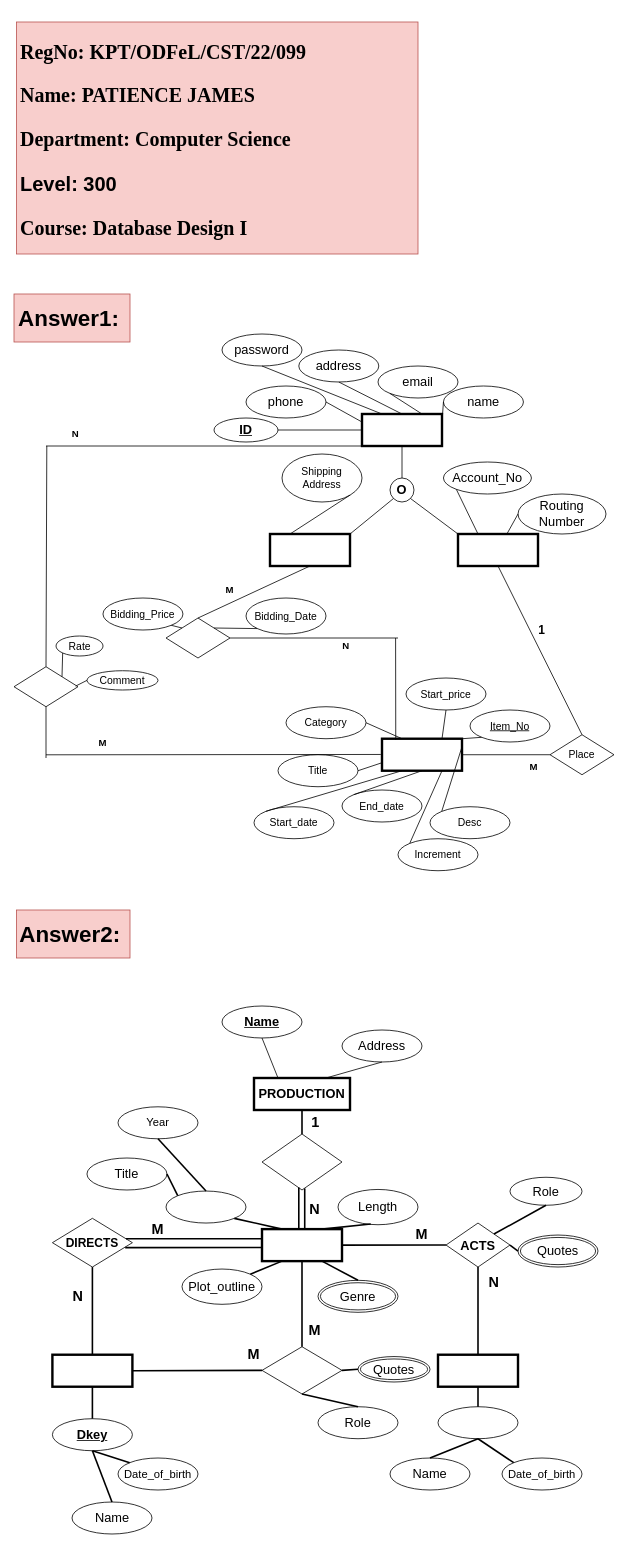
The diagram is 628 pixels wide and 1548 high, and some of its shapes have lost their labels. The shapes that lost their labels are listed below. From the top down, each one's box as (x1, y1, x2, y2) in pixels, then its label:
(360, 412, 443, 447): Members
(268, 532, 351, 567): Buyers
(456, 532, 539, 567): Sellers
(165, 617, 230, 658): Bids
(13, 666, 78, 707): Feedback
(380, 737, 463, 772): Items
(261, 1133, 342, 1190): PRODUCES
(165, 1190, 246, 1223): Mkey
(260, 1228, 343, 1262): MOVIE
(51, 1353, 133, 1388): DIRECTOR
(261, 1346, 342, 1394): DIR_ACTS
(436, 1353, 519, 1388): ACTOR
(437, 1406, 518, 1439): Akey
